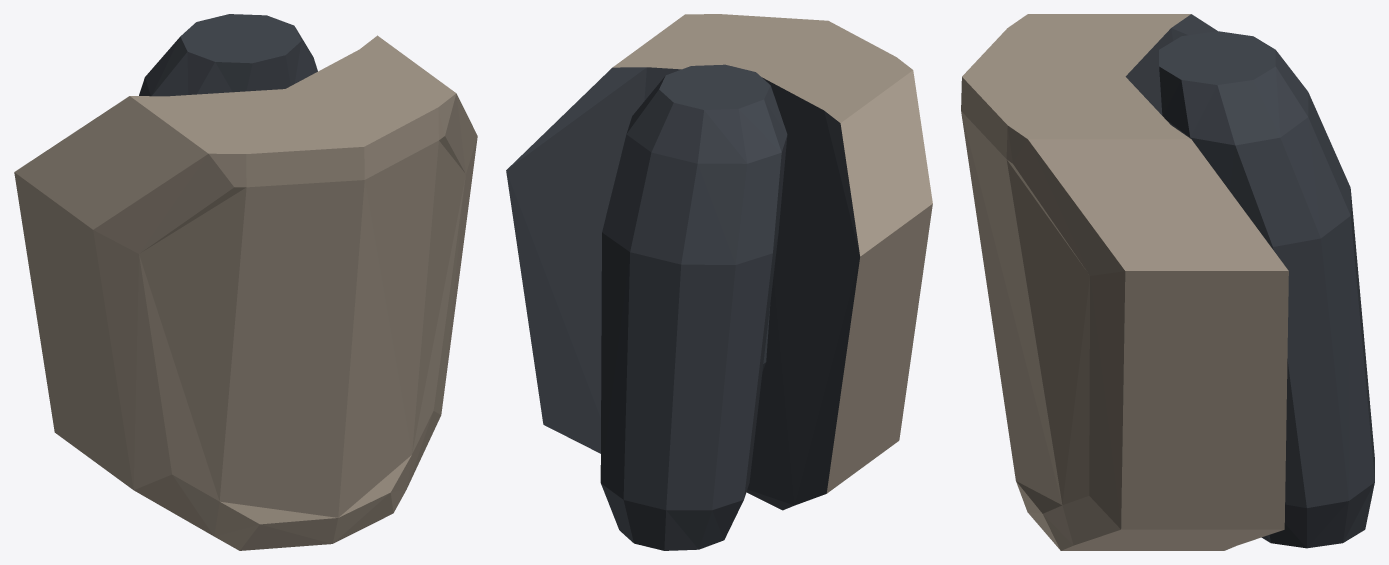
The model's file is thigh_medium.glb.
3 views of the same model, side by side, from view 1: azimuth 30°, elevation 25°; view 2: azimuth 150°, elevation 25°; view 3: azimuth 270°, elevation 25° (orthographic). The views are drawn at different scales.
Visible parts, largest first — view 1: thigh_medium; view 2: thigh_medium; view 3: thigh_medium.
Boxes of the visible parts, box(x1,y1,x2,y2) form: thigh_medium: box(14, 14, 477, 550); thigh_medium: box(506, 14, 932, 550); thigh_medium: box(961, 14, 1374, 550).
Bounding box in the file's own units: 0.9 × 1 × 0.8099.
